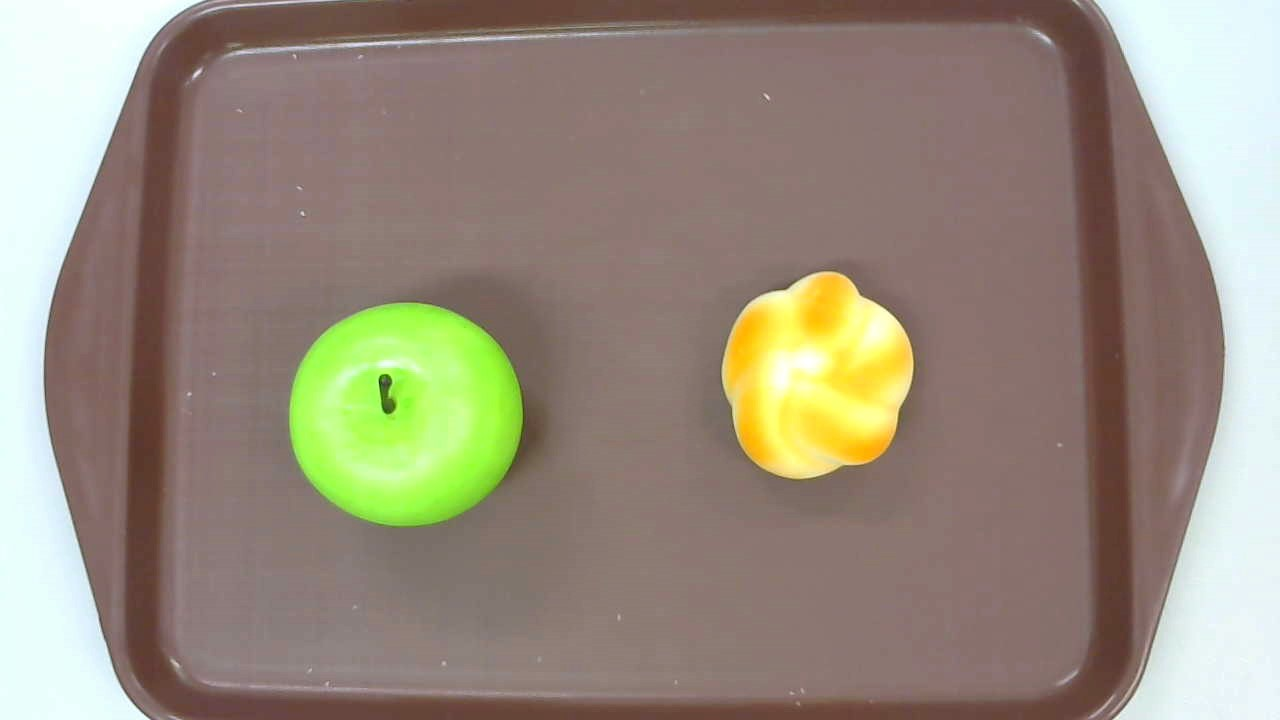green apple: (288, 301, 524, 528)
twist bread: (721, 272, 916, 478)
